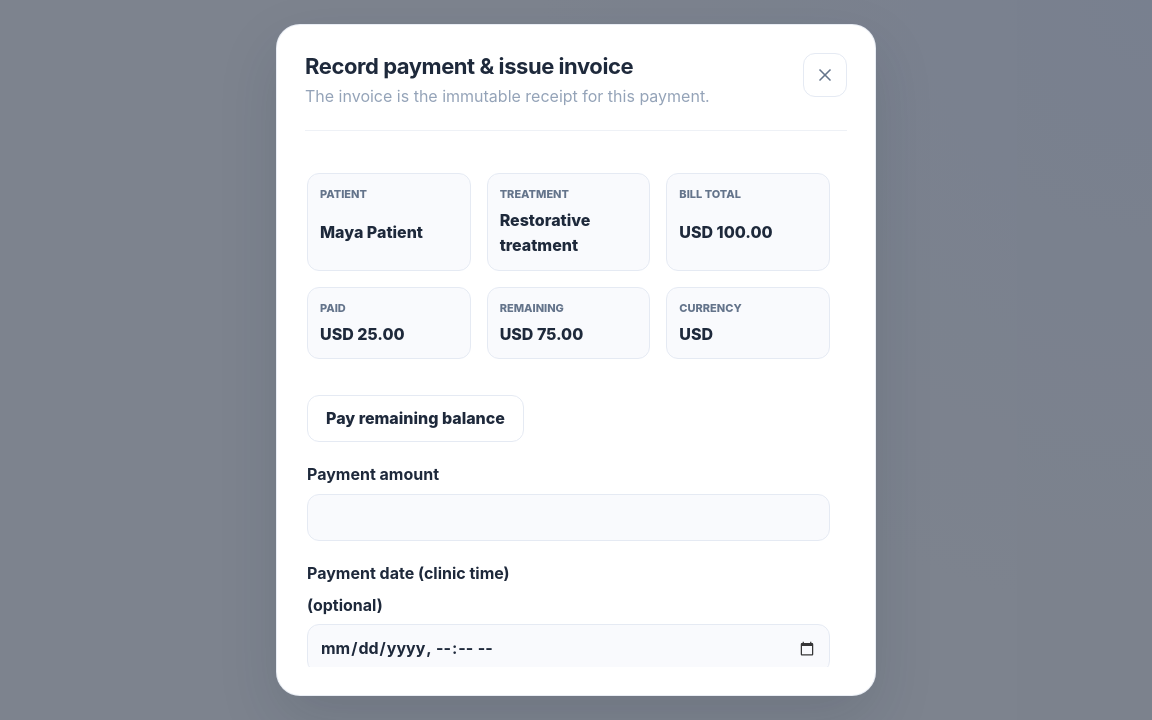
RecordPaymentDialog › fills the exact remaining balance without submitting
This screenshot has width=1152, height=720.
Click the button "Pay remaining balance" at (415, 419), box [307,396,524,442]
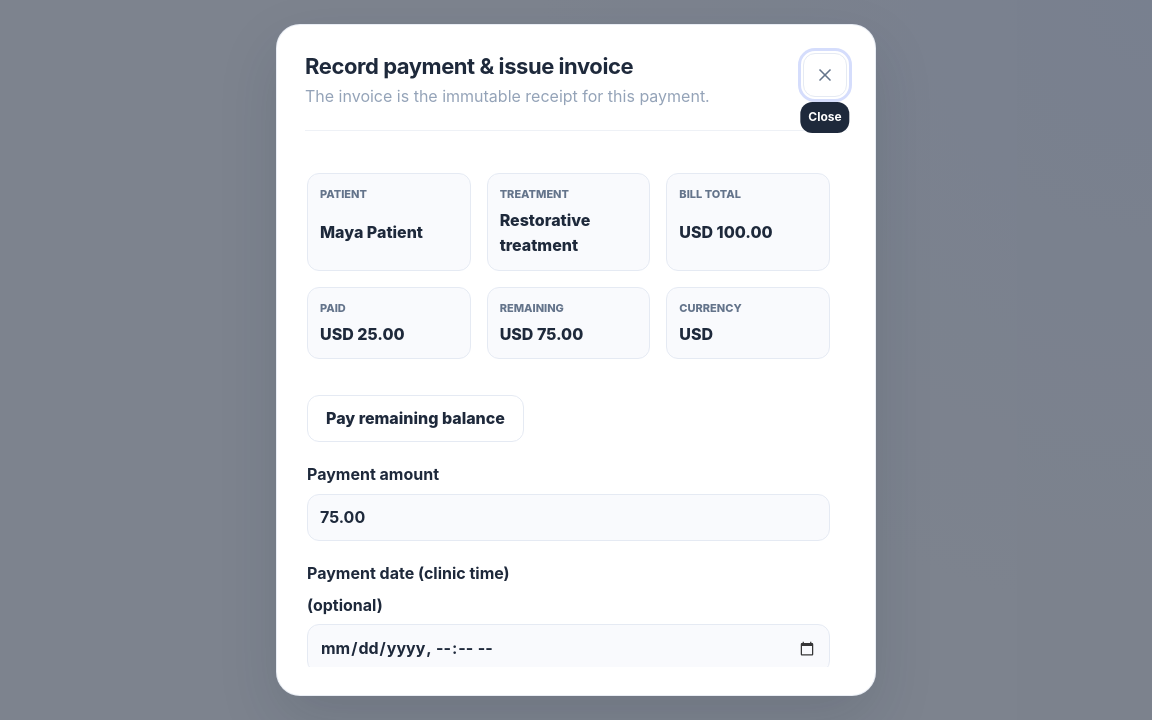
Now the field labelled "Payment amount" holds "75.00", box [307,494,830,541]
